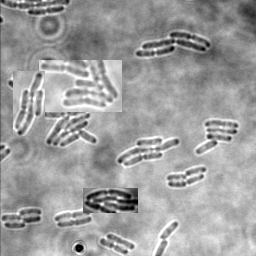Dividing: (167, 175, 204, 189), (99, 238, 128, 255), (54, 209, 90, 222), (56, 217, 92, 228), (27, 7, 64, 17)
Microcolony: (39, 60, 122, 112), (13, 71, 45, 136), (117, 137, 180, 168), (135, 32, 211, 57), (195, 120, 238, 155), (83, 188, 138, 213), (1, 208, 42, 229)
Rod: (106, 233, 135, 251), (157, 222, 178, 240), (184, 167, 206, 177), (166, 174, 187, 183)
